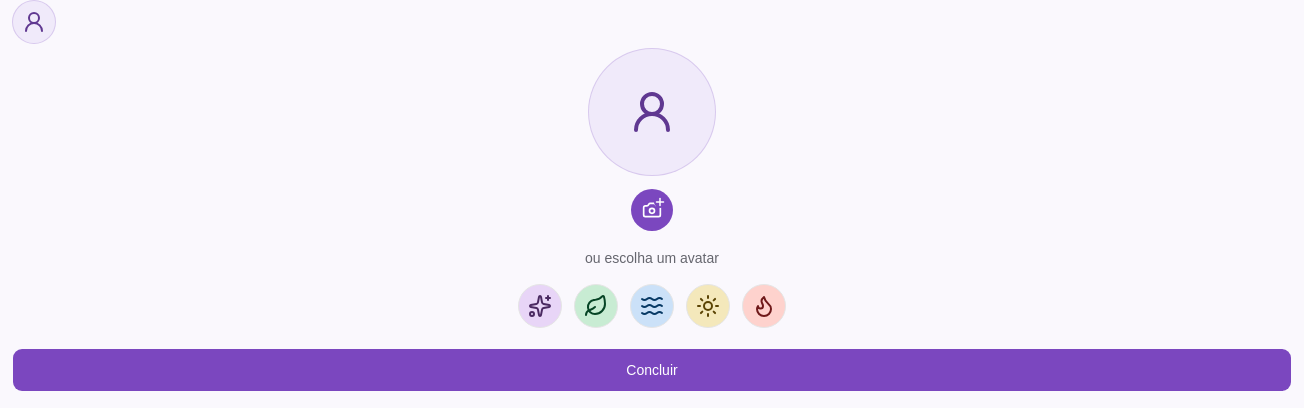
it: shows a preset in the header as soon as the profile choice is saved
Check: the number of pictures named "Perfil de Guilherme" is 2, box [22, 10, 46, 34]; [628, 88, 676, 136]
Click the button named "Folha": (596, 306) [574, 284, 618, 328]
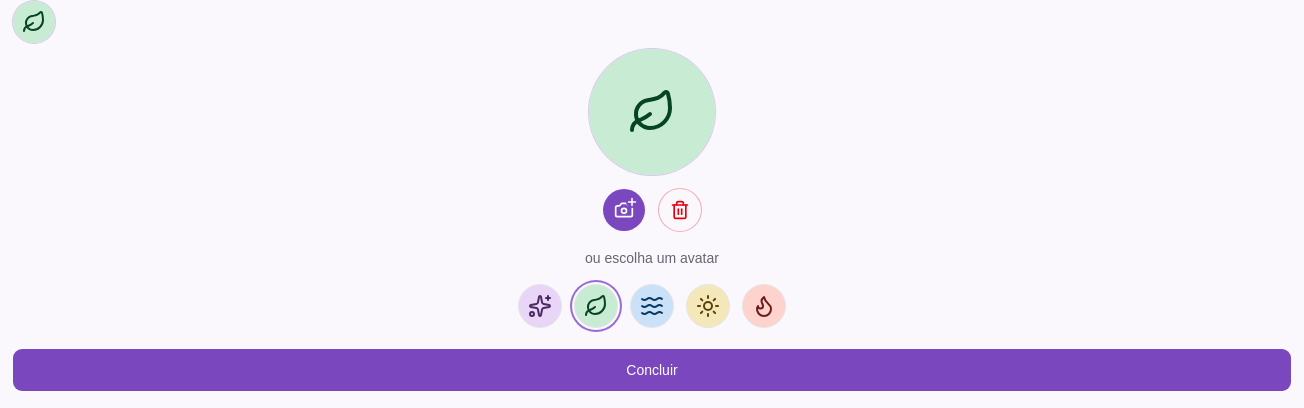
Check: the number of pictures named "Avatar Folha de Guilherme" is 2, box [13, 1, 55, 43]; [589, 49, 715, 175]
Check: the button named "Folha" is pressed, box [574, 284, 618, 328]
